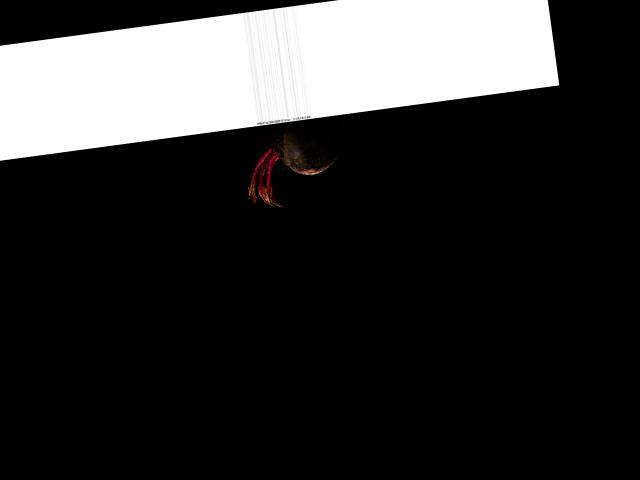beet: (239, 113, 362, 210)
